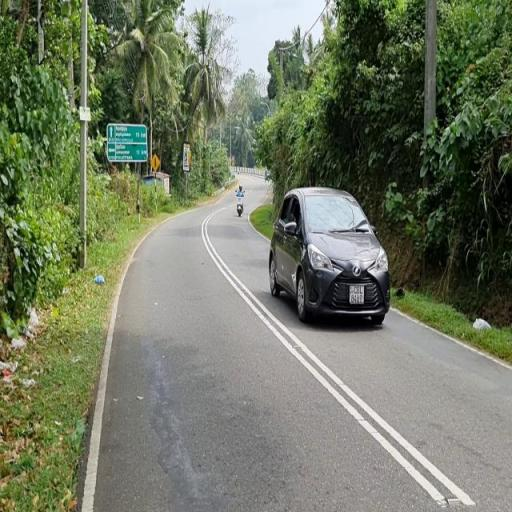double_white_line: (203, 208, 475, 506)
